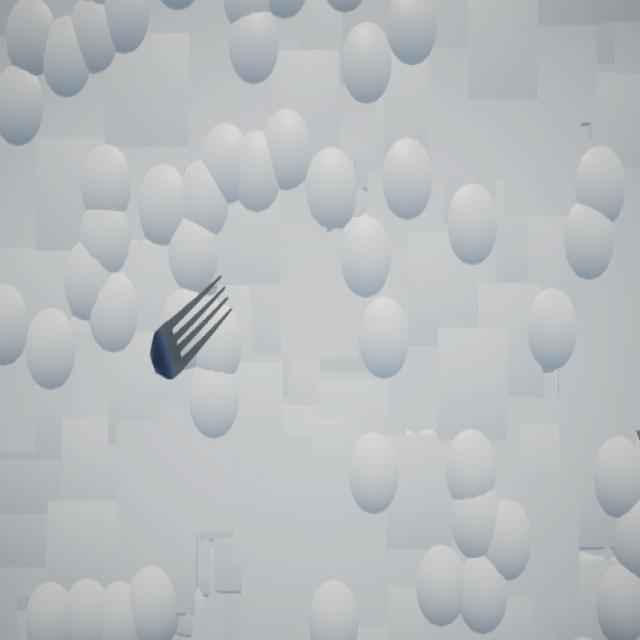top_folk: (150, 276, 234, 381)
